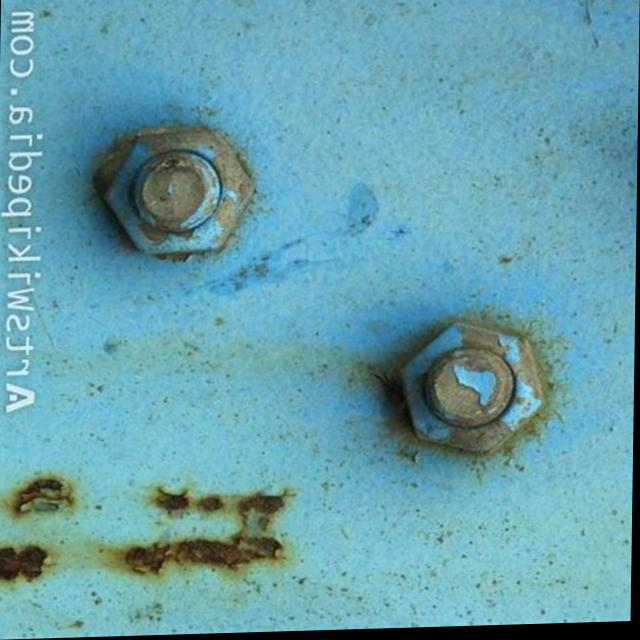Regular bolt: (398, 321, 549, 454), (108, 130, 257, 257)
